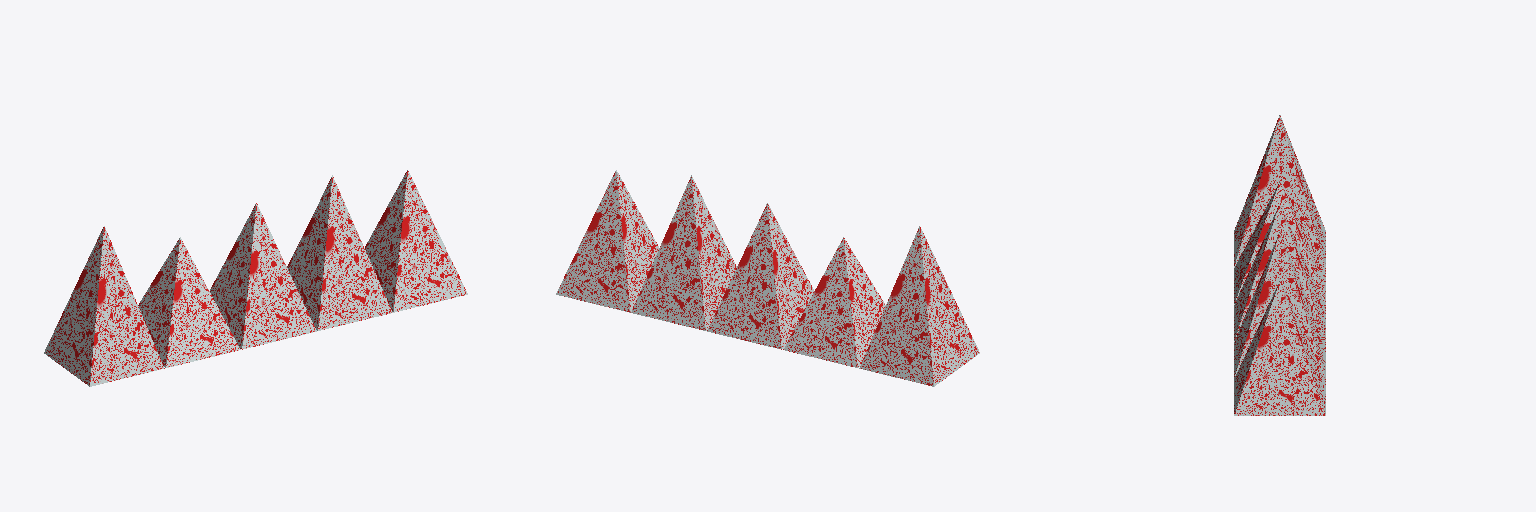
3 views of the same model, side by side, from view 1: azimuth 30°, elevation 25°; view 2: azimuth 150°, elevation 25°; view 3: azimuth 270°, elevation 25° (orthographic).
Visible parts, largest first — view 1: Pyramide001, Pyramide004, Pyramide003, Pyramide005, Pyramide002; view 2: Pyramide001, Pyramide004, Pyramide003, Pyramide005, Pyramide002; view 3: Pyramide005, Pyramide001, Pyramide004, Pyramide003, Pyramide002.
Boxes of the visible parts, x1=… form: Pyramide001: x1=44, y1=226, x2=164, y2=386; Pyramide004: x1=287, y1=175, x2=392, y2=330; Pyramide003: x1=210, y1=203, x2=316, y2=349; Pyramide005: x1=365, y1=170, x2=467, y2=312; Pyramide002: x1=138, y1=237, x2=240, y2=367; Pyramide001: x1=859, y1=226, x2=979, y2=386; Pyramide004: x1=631, y1=175, x2=736, y2=330; Pyramide003: x1=707, y1=203, x2=813, y2=349; Pyramide005: x1=556, y1=170, x2=658, y2=312; Pyramide002: x1=783, y1=237, x2=885, y2=367; Pyramide005: x1=1234, y1=281, x2=1325, y2=415; Pyramide001: x1=1234, y1=115, x2=1325, y2=267; Pyramide004: x1=1234, y1=232, x2=1325, y2=377; Pyramide003: x1=1234, y1=204, x2=1325, y2=341; Pyramide002: x1=1234, y1=182, x2=1325, y2=304.
Bounding box in the file's own units: 117 × 40.08 × 24.66.
1 materials, 1 textured.